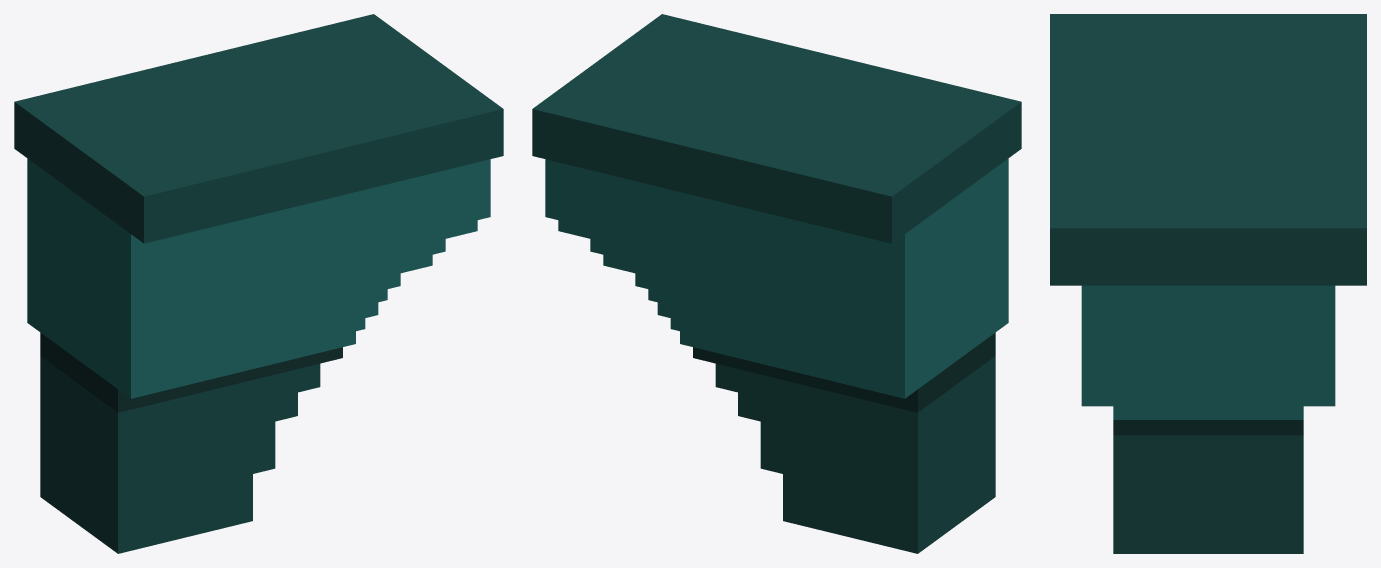
Rendered from WinterGrass-11.obj.
The picture shows the model from 3 angles, left to right: view 1: azimuth 30°, elevation 25°; view 2: azimuth 150°, elevation 25°; view 3: azimuth 270°, elevation 25°; orthographic projection. The views are drawn at different scales.
Bounding box in the file's own units: 1.6 × 1.6 × 1.
Materials: 1 (1 with a texture image).
